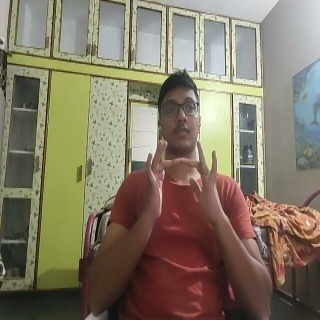Internet: (141, 137, 222, 231)
